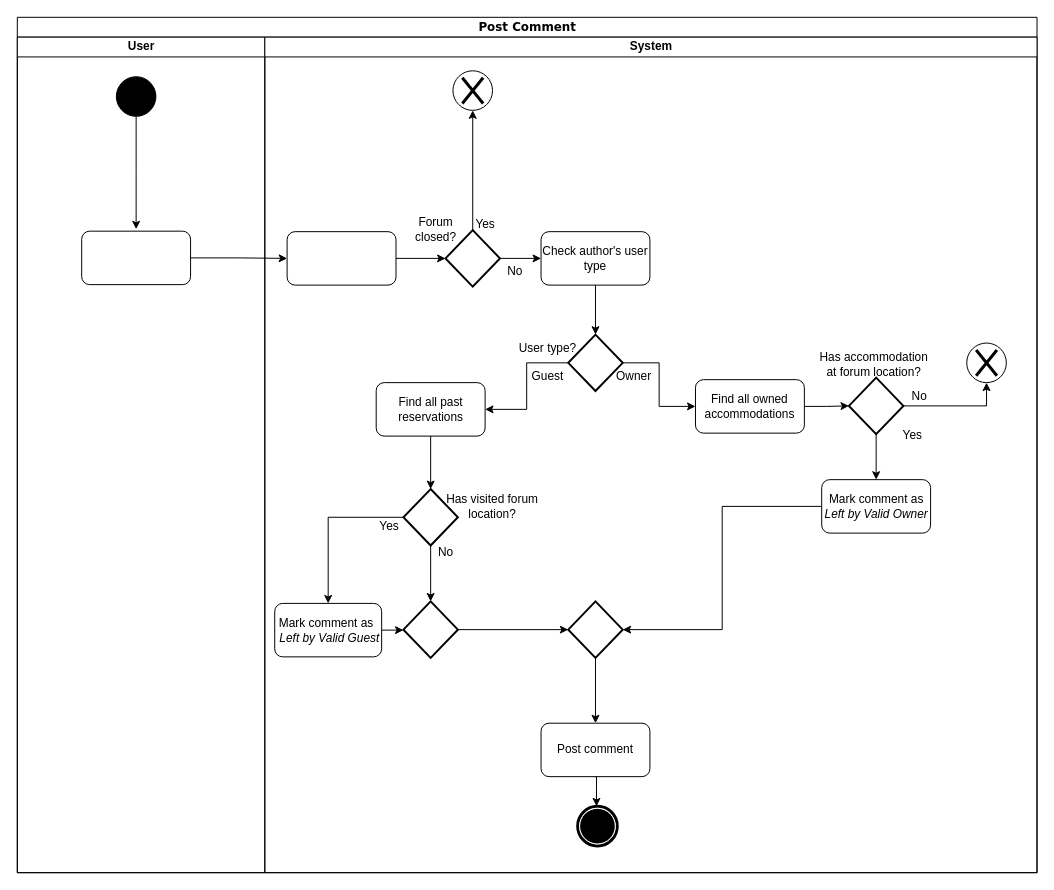
Some shapes in this 1054 by 890 pixel diagram are drawn without their labels. Here are the shapes that lost their labels. From the top down, the centre of each, then its label:
the point at 136,257: Write Comment
the point at 341,258: Check forum status
